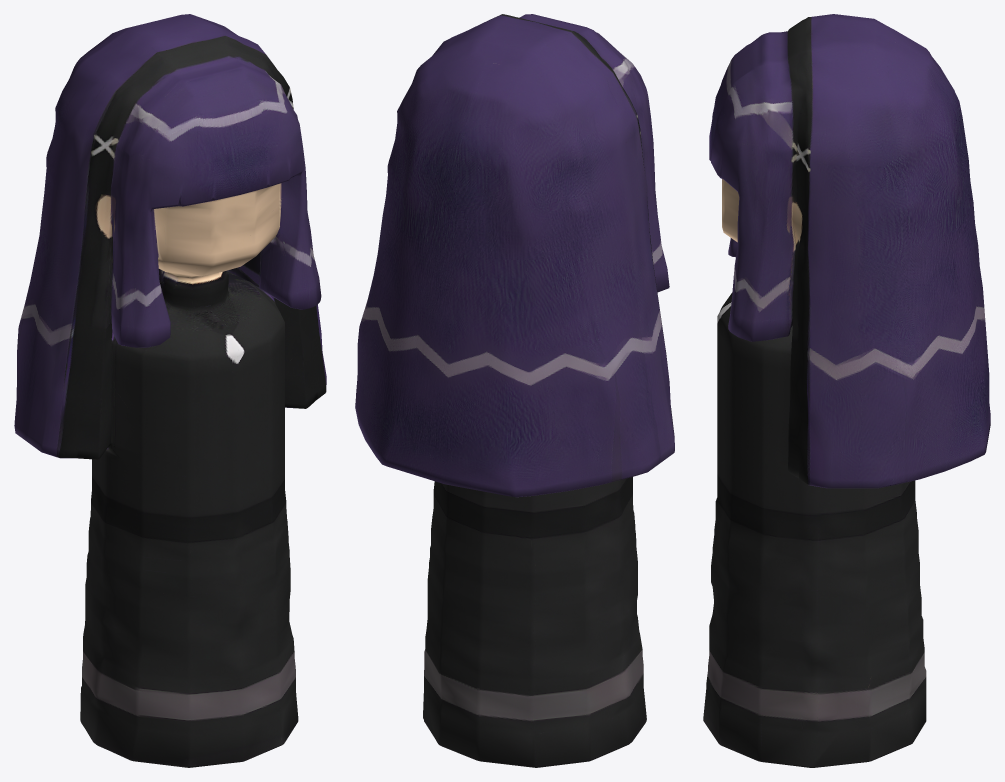
Rendered from Meshy_AI_Violet_Silhouette_0425081826_texture.fbx.
The picture shows the model from 3 angles, left to right: view 1: azimuth 30°, elevation 25°; view 2: azimuth 150°, elevation 25°; view 3: azimuth 270°, elevation 25°; orthographic projection. The views are drawn at different scales.
Visible parts, largest first — view 1: Mesh_0; view 2: Mesh_0; view 3: Mesh_0.
Part boxes in pixels (x1,y1,x2,y2): Mesh_0: [14, 14, 326, 767]; Mesh_0: [355, 14, 674, 767]; Mesh_0: [703, 14, 990, 767].
Size of the model in its own units: 83.37 by 191 by 71.62.
Materials: 1 (1 with a texture image).
